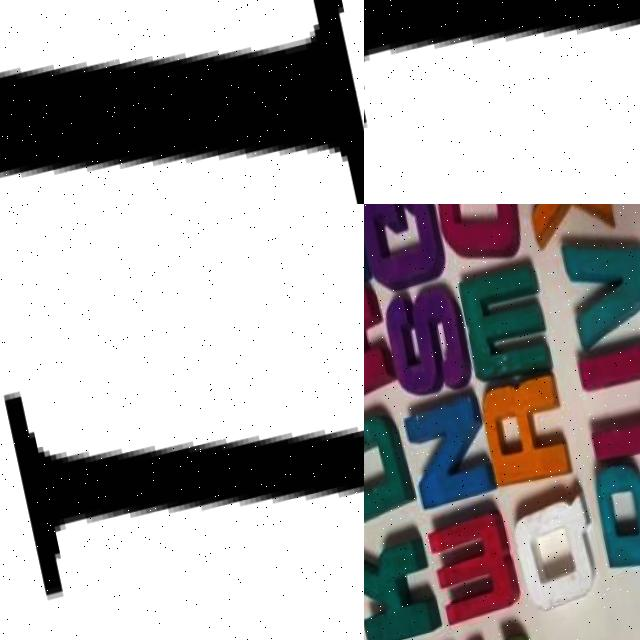A: (364, 280, 393, 409)
D: (364, 403, 414, 530)
G: (364, 204, 447, 292)
K: (364, 527, 442, 640)
L: (0, 204, 364, 640), (364, 0, 640, 188)
M: (454, 255, 554, 389)
N: (402, 393, 494, 515)
O: (434, 204, 526, 262)
P: (589, 453, 640, 583)
Q: (508, 490, 604, 610)
R: (478, 375, 573, 493)
S: (381, 282, 474, 397)
T: (0, 0, 364, 204)
U: (570, 337, 640, 467)
V: (559, 228, 640, 353)
W: (426, 503, 522, 629)
X: (518, 204, 614, 253)
